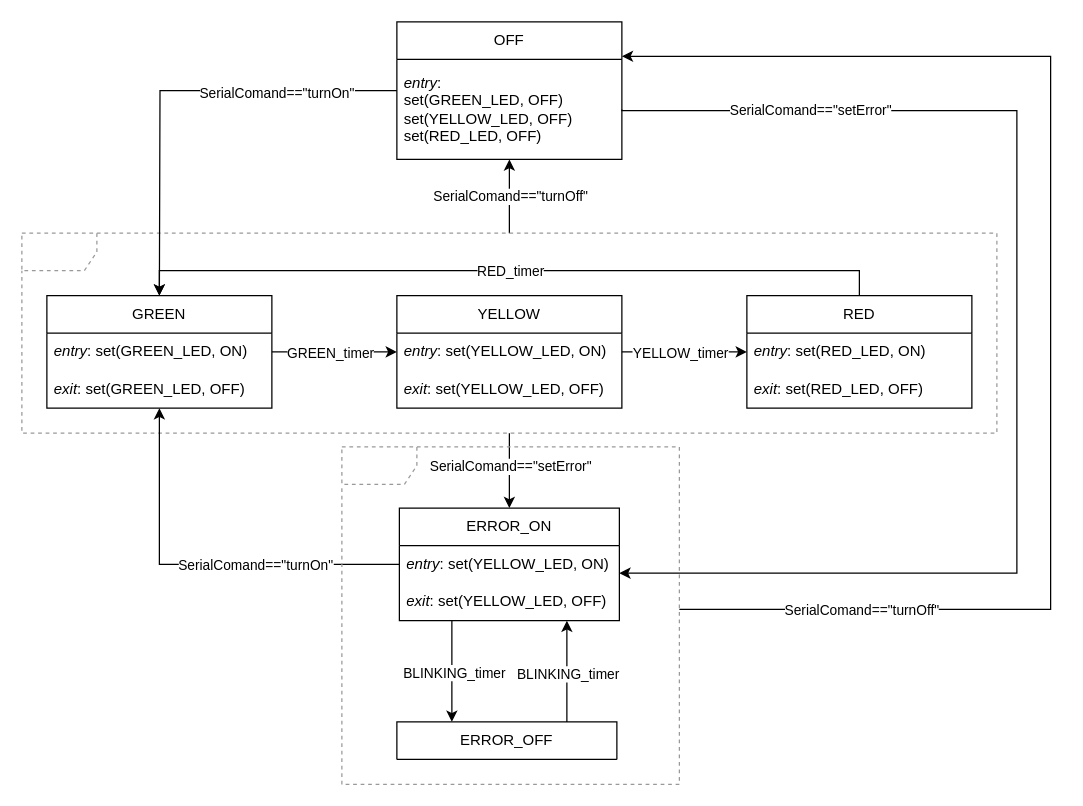
This 1083x806 diagram has some shape labels left out. The box of each missing label's shape, as (x1, y1, x2, y2) in pixels:
ERROR: (341, 446, 679, 784)
ON: (21, 232, 997, 433)
